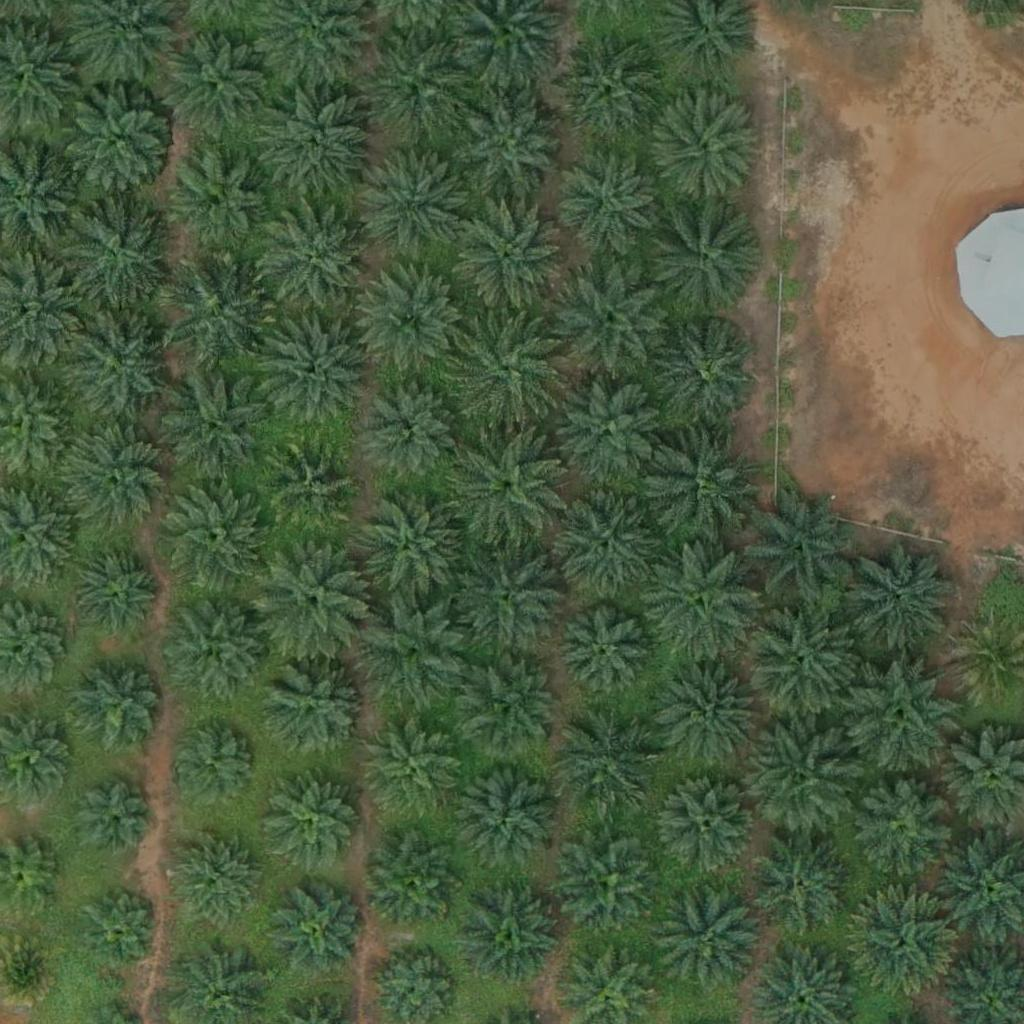Kelapa_Sawit: (359, 31, 472, 145), (360, 146, 473, 260), (848, 542, 961, 656), (846, 658, 959, 772), (746, 493, 859, 607), (256, 88, 369, 201), (263, 206, 376, 319), (356, 265, 469, 378), (549, 31, 662, 144), (652, 93, 765, 206), (647, 205, 760, 318), (451, 432, 564, 545), (450, 537, 563, 650), (353, 486, 466, 599), (62, 309, 175, 422), (453, 86, 565, 200), (452, 203, 564, 317), (555, 264, 667, 378), (746, 599, 858, 713), (649, 432, 761, 546), (848, 892, 960, 1005), (63, 82, 175, 195), (58, 195, 170, 308), (162, 25, 274, 138), (159, 255, 271, 368), (447, 312, 559, 425), (743, 724, 855, 837), (646, 546, 758, 659), (550, 491, 662, 604), (359, 593, 471, 706), (257, 542, 369, 655), (156, 481, 268, 594), (552, 376, 664, 489), (256, 309, 368, 422), (160, 368, 272, 481), (171, 148, 271, 249), (751, 840, 851, 941), (657, 663, 757, 764), (658, 776, 758, 877), (658, 885, 758, 986), (557, 708, 657, 809), (559, 834, 659, 935), (465, 658, 565, 759), (459, 766, 559, 867), (460, 888, 560, 989), (366, 715, 466, 816), (365, 832, 465, 933), (264, 657, 364, 758), (263, 773, 363, 874), (167, 601, 267, 702), (64, 423, 164, 524), (558, 151, 658, 251), (657, 324, 757, 424), (852, 780, 952, 880), (267, 443, 355, 532), (559, 610, 646, 698), (276, 886, 363, 974), (170, 717, 257, 805), (172, 829, 259, 917), (69, 547, 156, 635), (75, 666, 162, 754), (368, 386, 455, 474), (75, 781, 150, 857), (82, 890, 157, 966)
